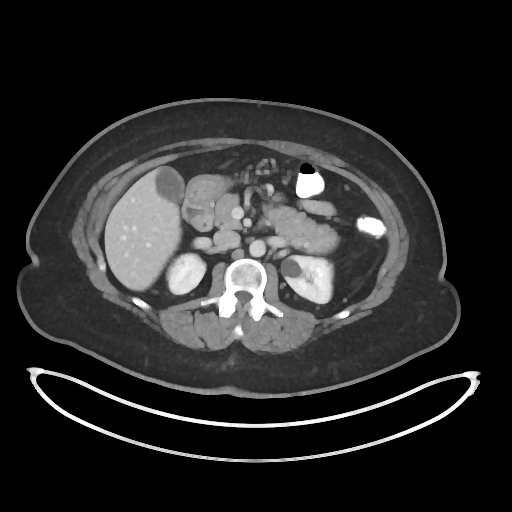Lesion: (277, 256, 305, 282)
